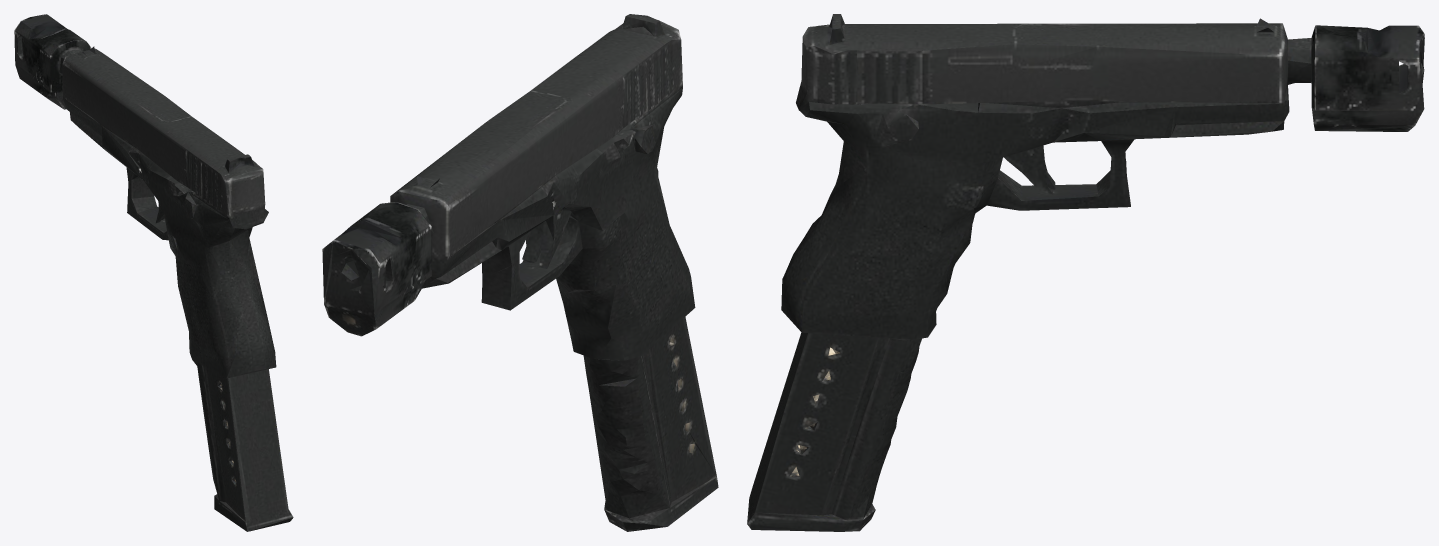
File: chatter_tp.glb
The picture shows the model from 3 angles, left to right: view 1: azimuth 30°, elevation 25°; view 2: azimuth 150°, elevation 25°; view 3: azimuth 270°, elevation 25°; orthographic projection. The views are drawn at different scales.
Parts seen in each view (by area): view 1: chatter_tp; view 2: chatter_tp; view 3: chatter_tp.
Boxes of the visible parts, x1,y1,x2,y2 form: chatter_tp: (14,14,293,531); chatter_tp: (322,14,718,531); chatter_tp: (747,14,1424,531).
Size of the model in its own units: 0.0284 by 0.1712 by 0.2098.
Materials: 1 (1 with a texture image).
